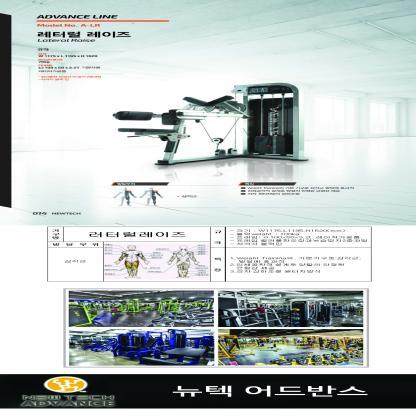lateral raises machine: (113, 83, 312, 166)
